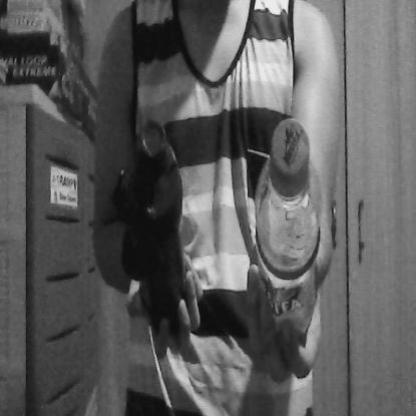Plastic Bottle: (244, 97, 332, 359)
